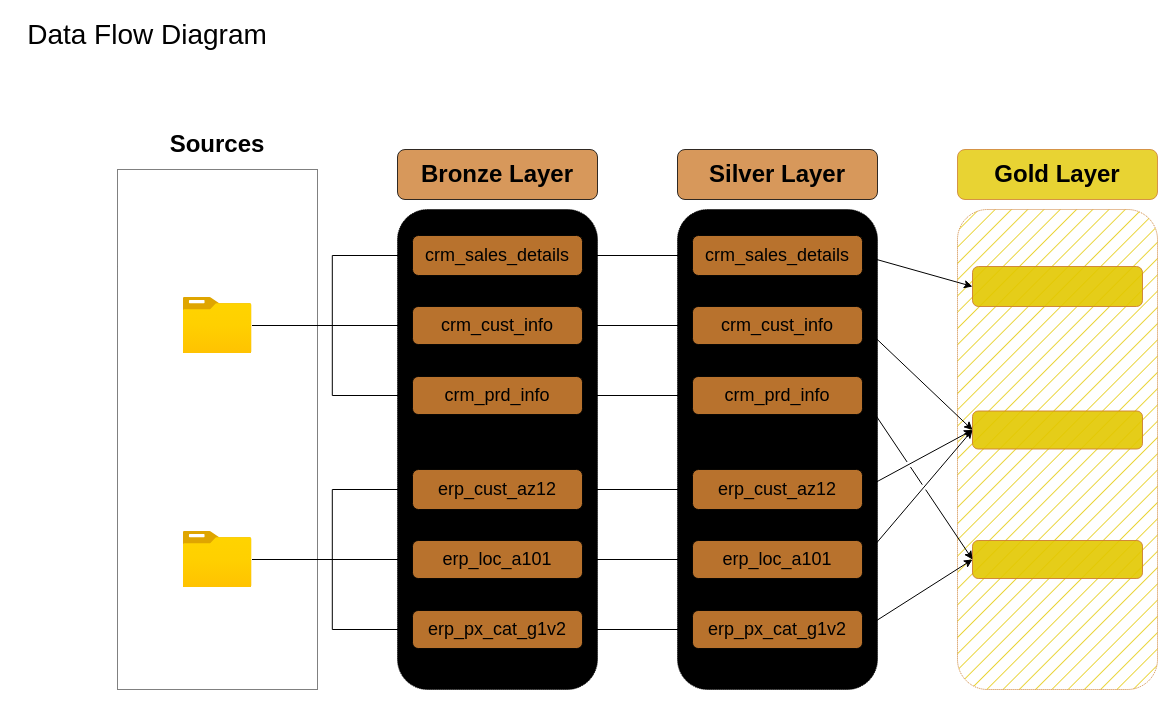
Image size: 1175x707. Some labels were removed from this diagram. The centre of each missing label's shape, as x and y in pixels:
"CRM" belongs at point (217, 325).
"dim_customer" belongs at point (1057, 429).
"dim_products" belongs at point (1057, 559).
"ERP" belongs at point (217, 559).
"fact_sales" belongs at point (1057, 286).
